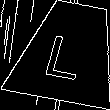L_N: (43, 24, 94, 80)
